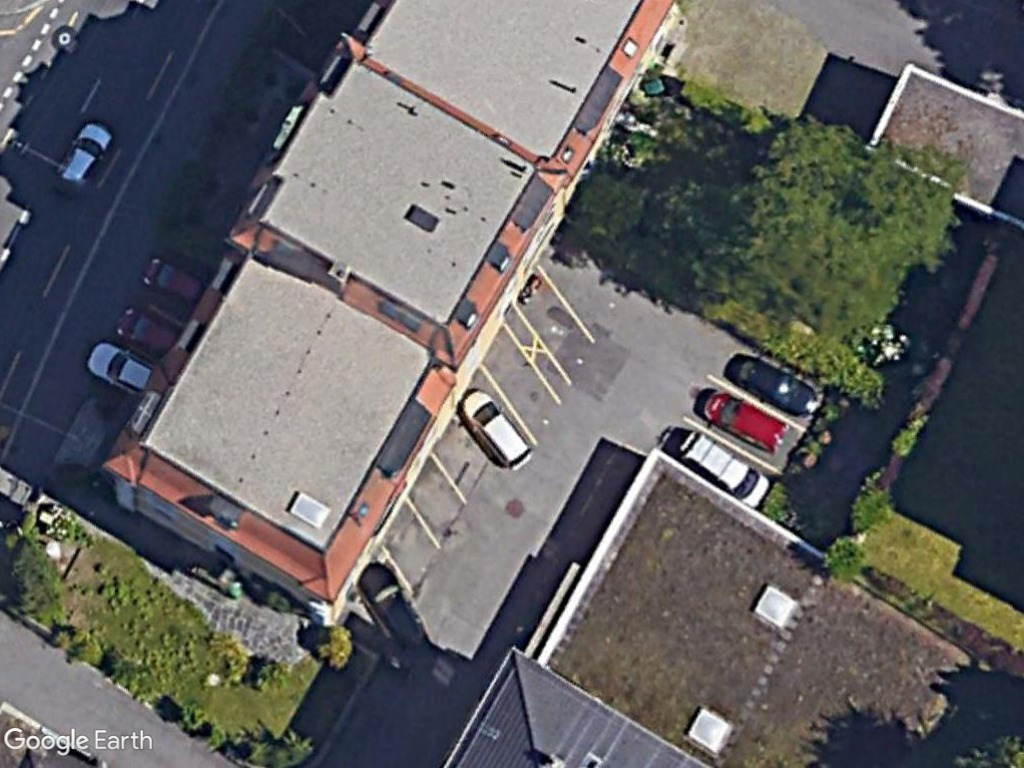car: (697, 384, 794, 455), (458, 390, 534, 471)
